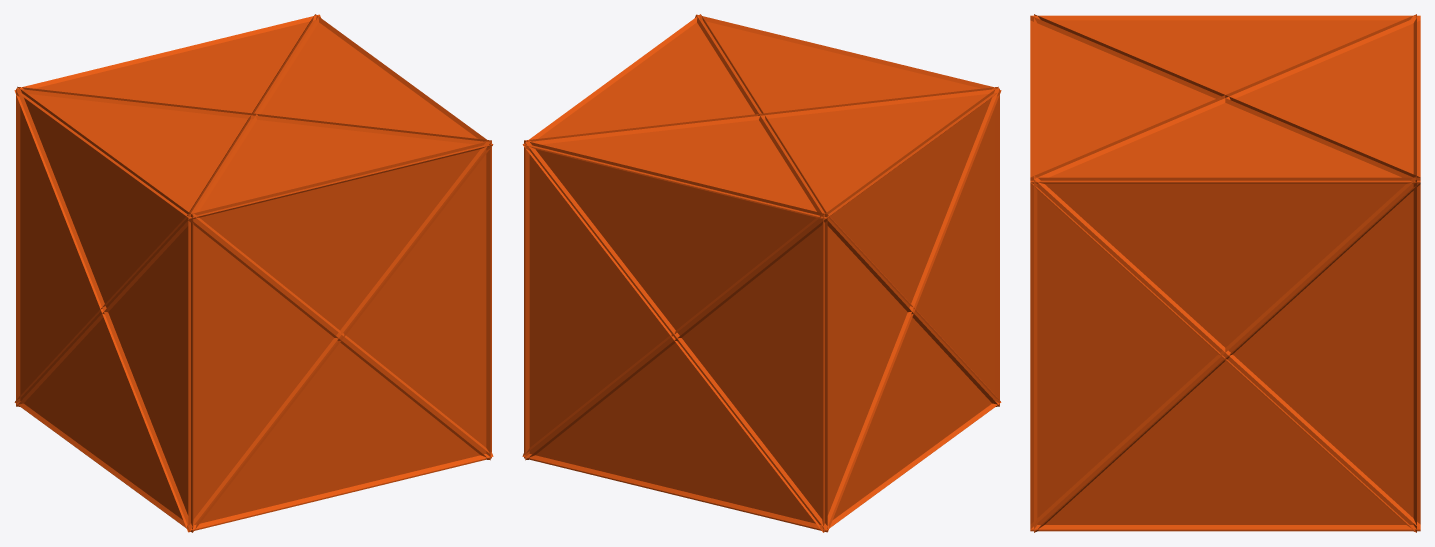
File: crate.dae
3 renders of one model, left to right at view 1: azimuth 30°, elevation 25°; view 2: azimuth 150°, elevation 25°; view 3: azimuth 270°, elevation 25°, orthographic. The views are drawn at different scales.
Parts seen in each view (by area): view 1: Cube; view 2: Cube; view 3: Cube.
Part boxes in pixels (x1,y1,x2,y2): Cube: [14, 14, 493, 532]; Cube: [522, 14, 1001, 532]; Cube: [1030, 14, 1420, 532].
Size of the model in its own units: 2.04 by 2.04 by 2.04.
